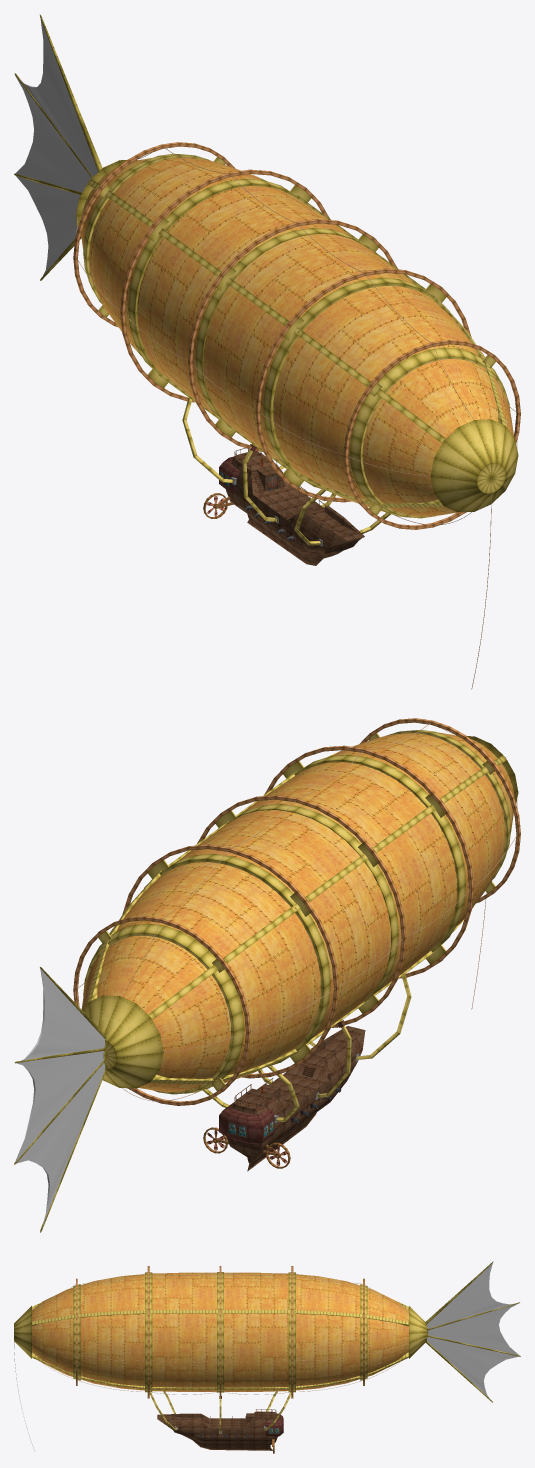
The model's file is AirshipLarge.FBX.
3 renders of one model, top to bottom at view 1: azimuth 30°, elevation 25°; view 2: azimuth 150°, elevation 25°; view 3: azimuth 270°, elevation 25°, orthographic. The views are drawn at different scales.
Parts seen in each view (by area): view 1: AirshipLargeSkin, AirshipLargeFrame, AirshipLargeHull; view 2: AirshipLargeSkin, AirshipLargeFrame, AirshipLargeHull; view 3: AirshipLargeSkin, AirshipLargeFrame, AirshipLargeHull.
Boxes of the visible parts, x1,y1,x2,y2 form: AirshipLargeSkin: [81, 157, 513, 516]; AirshipLargeFrame: [14, 14, 520, 689]; AirshipLargeHull: [203, 448, 364, 565]; AirshipLargeSkin: [81, 732, 514, 1092]; AirshipLargeFrame: [14, 718, 520, 1232]; AirshipLargeHull: [203, 1026, 365, 1171]; AirshipLargeSkin: [32, 1272, 408, 1391]; AirshipLargeFrame: [14, 1261, 520, 1451]; AirshipLargeHull: [157, 1409, 283, 1453].
Bounding box in the file's own units: 3885 × 6156 × 14832.
